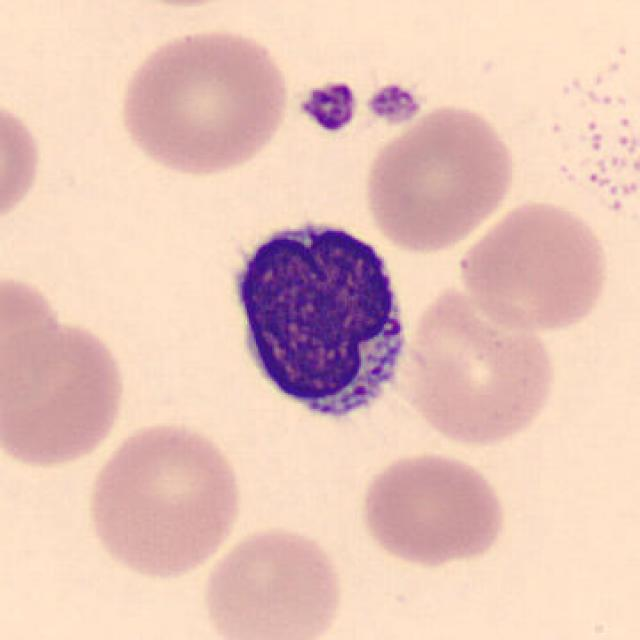Lymphocyte: (217, 205, 421, 439)
Platelets: (295, 78, 361, 136), (365, 81, 423, 125)
RBC: (112, 23, 293, 180), (393, 282, 560, 451), (82, 418, 247, 582), (359, 100, 519, 256), (454, 196, 614, 335), (0, 316, 132, 470), (356, 448, 510, 569), (199, 522, 349, 640), (0, 264, 71, 418), (0, 90, 46, 238)
